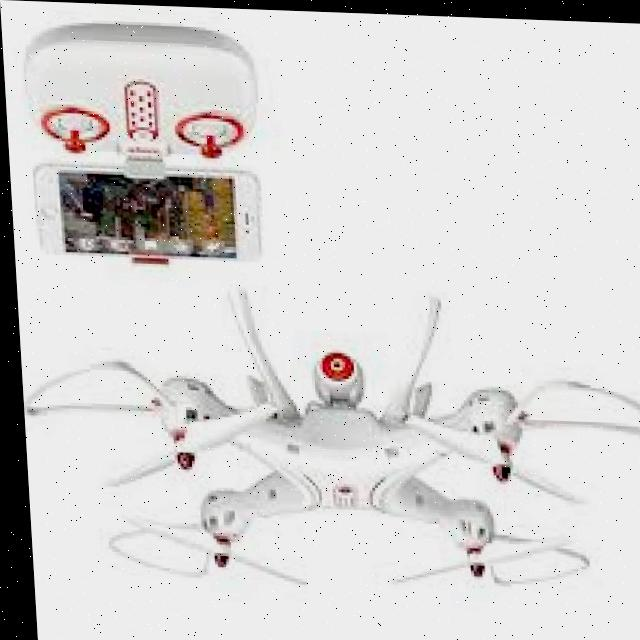drone: (13, 280, 640, 611)
